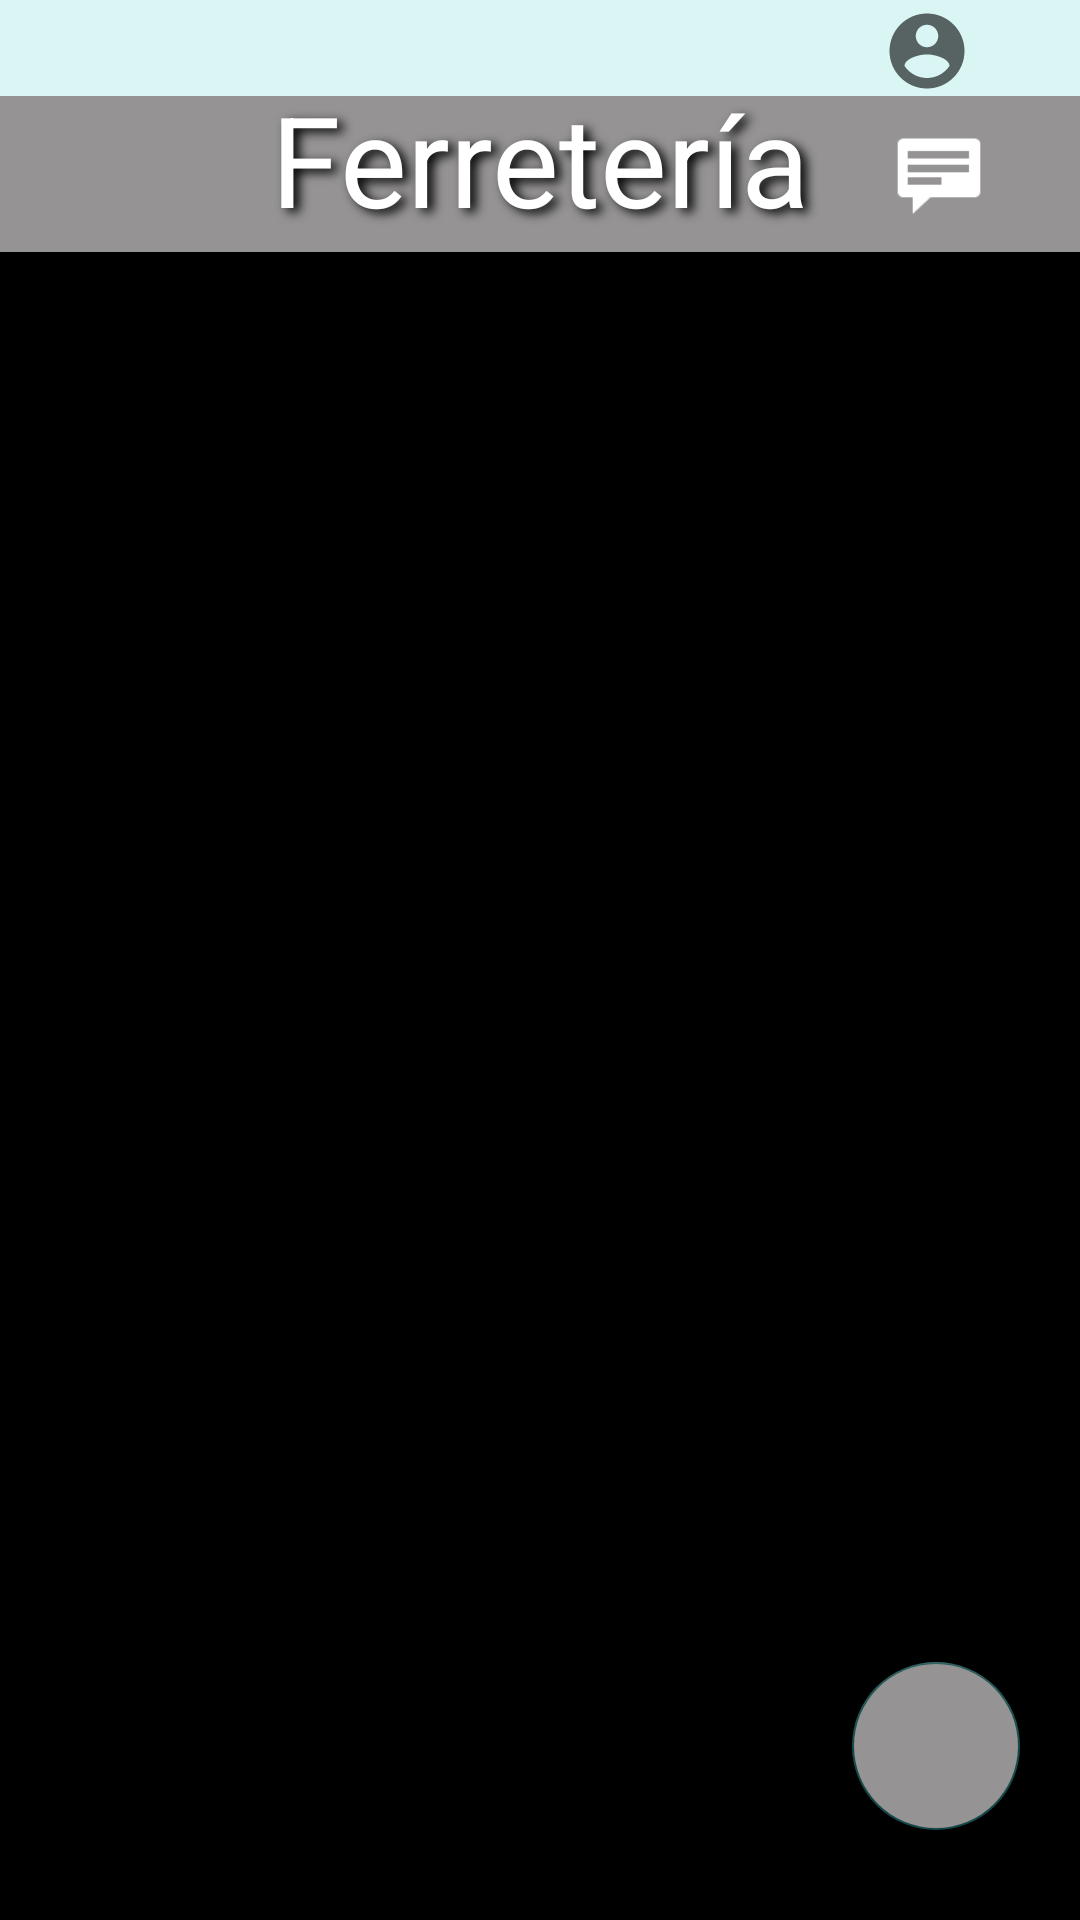

Point at icon controls on the screen. Image size 1080 x 1920, points as (x=x, y=y).
account circle: (x=927, y=51)
chat: (x=939, y=176)
